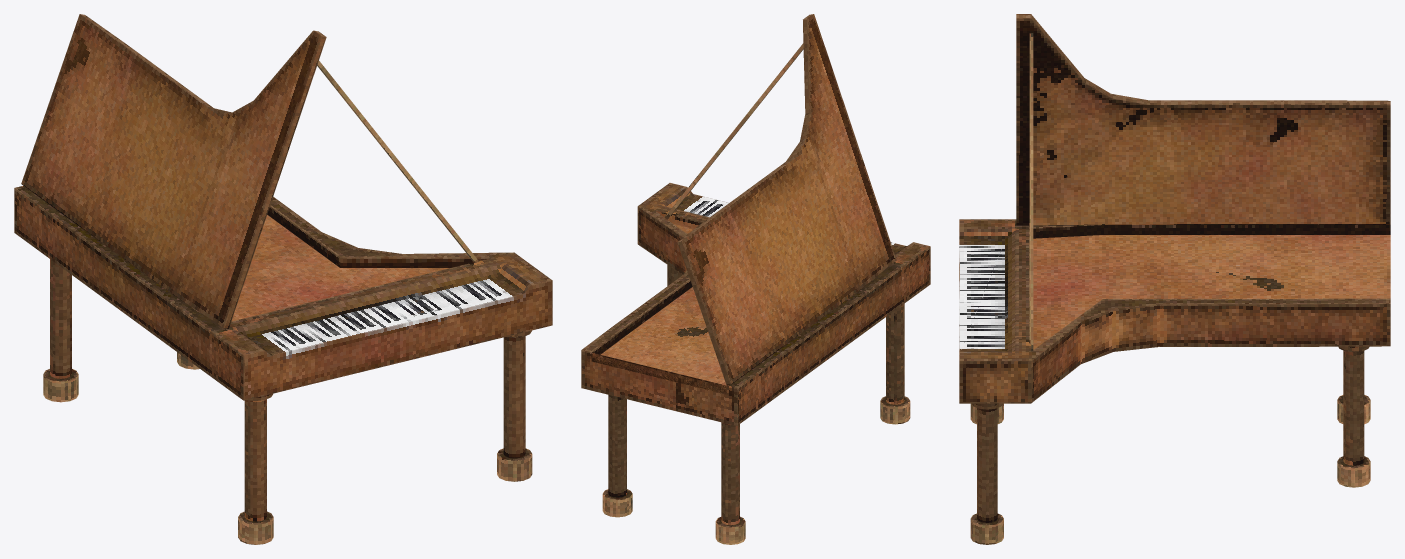
Rendered from Piano_Var_2.gltf.
The picture shows the model from 3 angles, left to right: view 1: azimuth 30°, elevation 25°; view 2: azimuth 150°, elevation 25°; view 3: azimuth 270°, elevation 25°; orthographic projection. The views are drawn at different scales.
Parts seen in each view (by area): view 1: Piano_Var_2; view 2: Piano_Var_2; view 3: Piano_Var_2.
Part boxes in pixels (x1,y1,x2,y2): Piano_Var_2: (14, 14, 552, 544); Piano_Var_2: (581, 14, 930, 544); Piano_Var_2: (959, 14, 1390, 544).
Size of the model in its own units: 3.26 by 4.75 by 4.2.
1 material, 1 textured.
